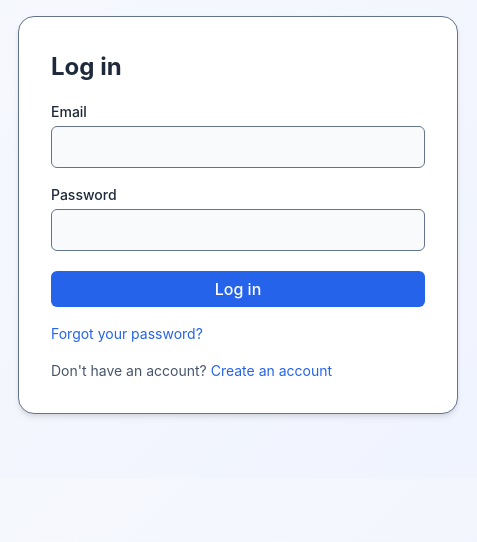
Test: LoginPage › blocks an empty submit, marks fields invalid and focuses the first one
The width and height of the screenshot is (477, 542).
What coordinates should you click on to do the following:
click the button "Log in"
I would click on:
 (238, 289)
Its box is [51,271,425,307].
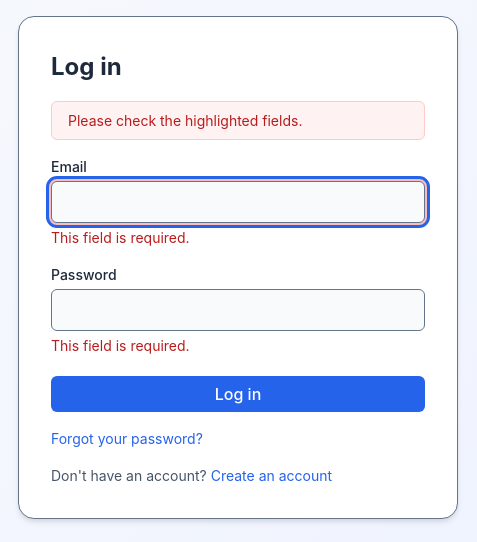
Check: the message reads "Please check the highlighted fields.", box [68,112,302,129]
